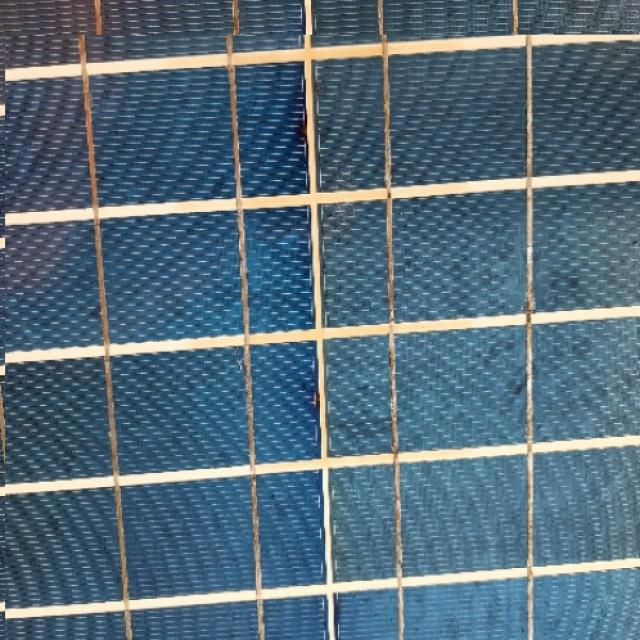Clean: (5, 34, 640, 640)
